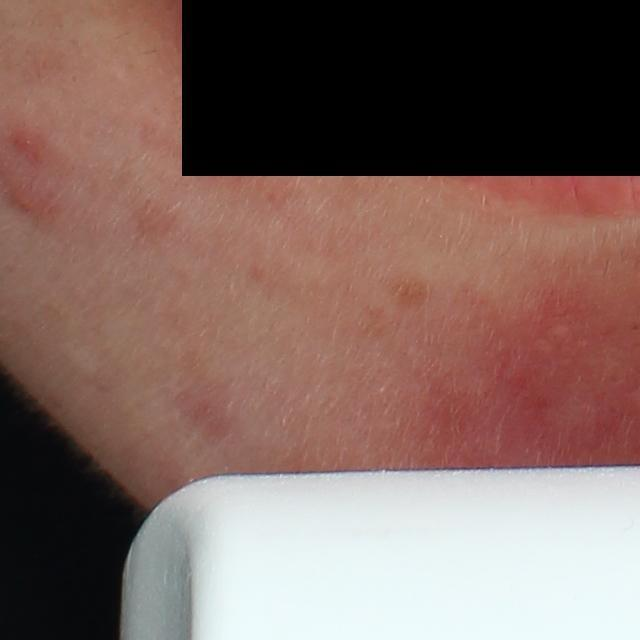papule: (13, 135, 39, 153)
